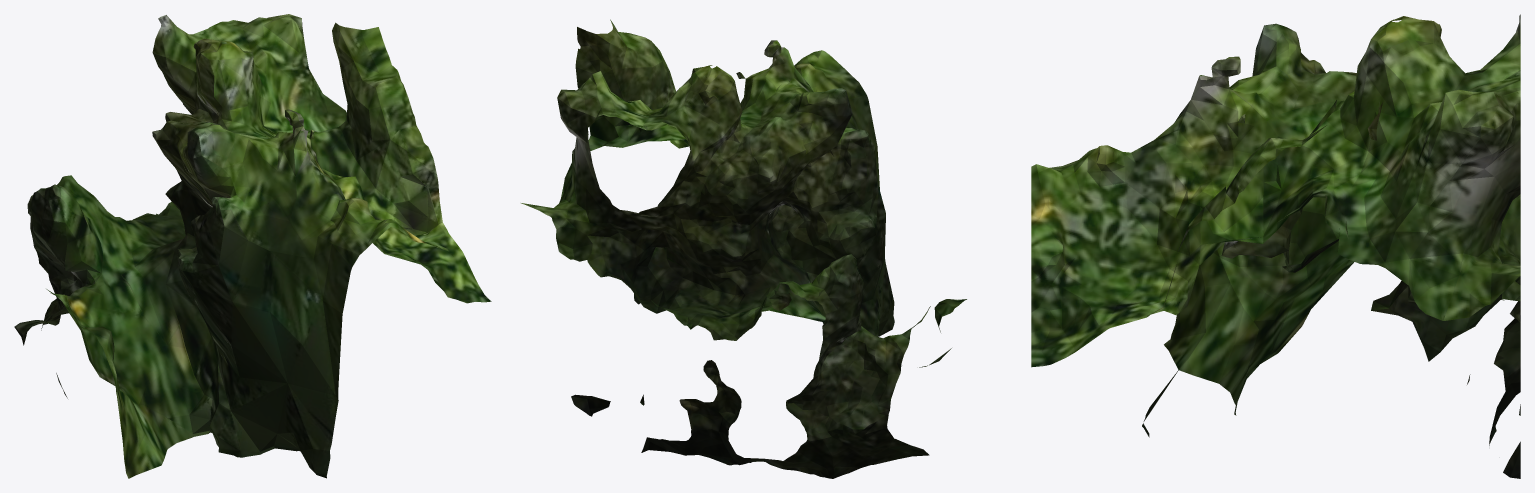
3 renders of one model, left to right at view 1: azimuth 30°, elevation 25°; view 2: azimuth 150°, elevation 25°; view 3: azimuth 270°, elevation 25°, orthographic. The views are drawn at different scales.
Size of the model in its own units: 1.67 by 1.67 by 1.67.
Materials: 6 (6 with a texture image).
